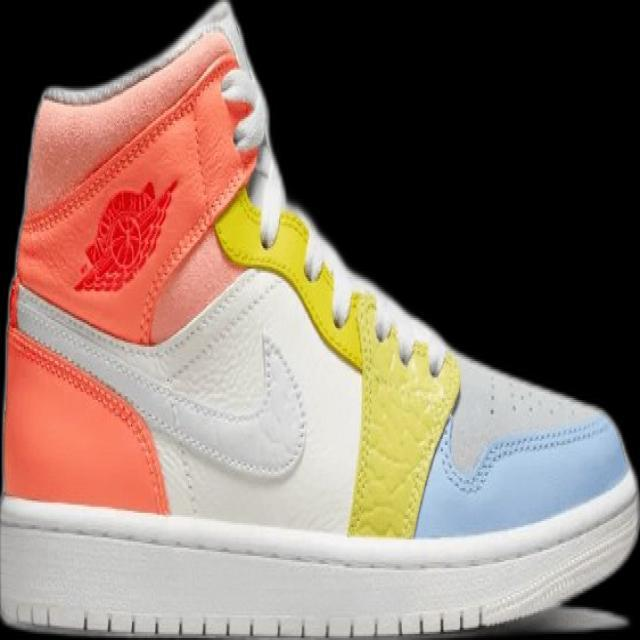J1_InsoleChar: (0, 0, 639, 639)
J1_ShoeLogo: (71, 176, 180, 293)
J1_StitchPattern: (6, 263, 463, 538), (213, 190, 462, 538), (6, 277, 310, 484), (5, 323, 171, 513), (343, 297, 462, 539), (5, 601, 487, 639), (436, 413, 612, 496)
